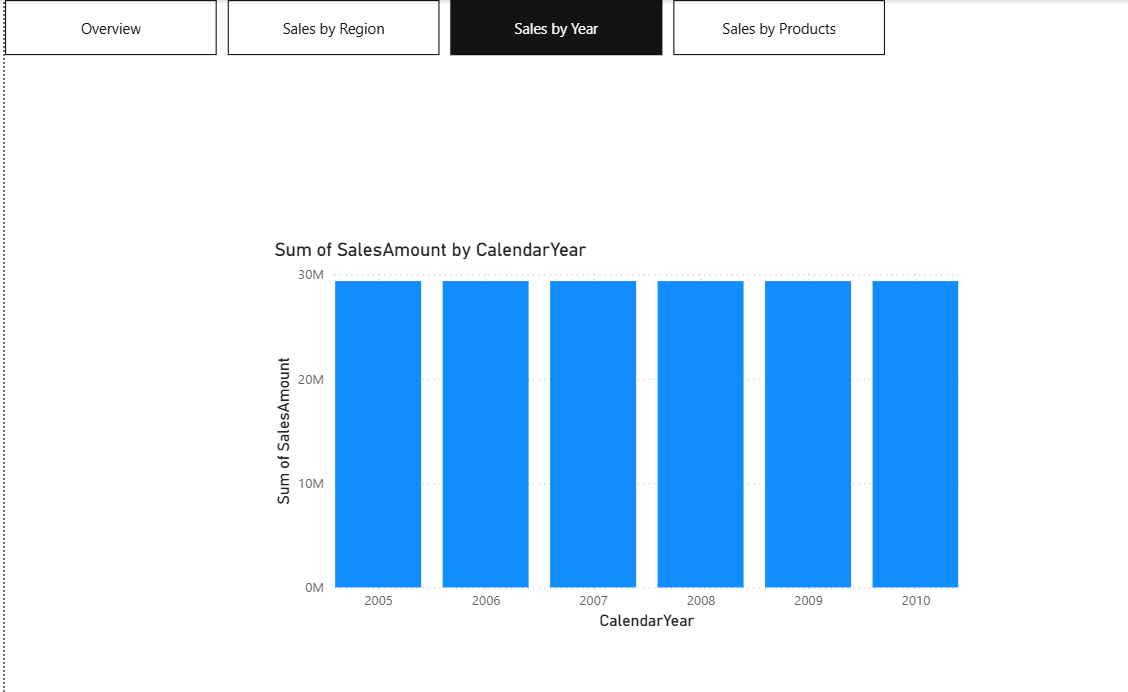

The page's visual inventory and layout, read from the dashboard file:
{"tool":"powerbi","page":{"name":"Sales by Year","canvas":[1280,720],"ordinal":2},"visuals":[{"type":"clusteredColumnChart","fields":{"Y":["Sum(FactInternetSales.SalesAmount)"],"Category":["DimDate.CalendarYear"]},"box":[9.7,0,630.3,359.9],"z":0}]}

Visuals, with their boxes on the page's 1280x720 design canvas (x1, y1, x2, y2). These are canvas units, not pixel positions in the 1128x692 screenshot, which may show the page scaled, cropped or inside an application window:
clusteredColumnChart - Sum(FactInternetSales.SalesAmount) x DimDate.CalendarYear: (x1=10, y1=0, x2=640, y2=360)
